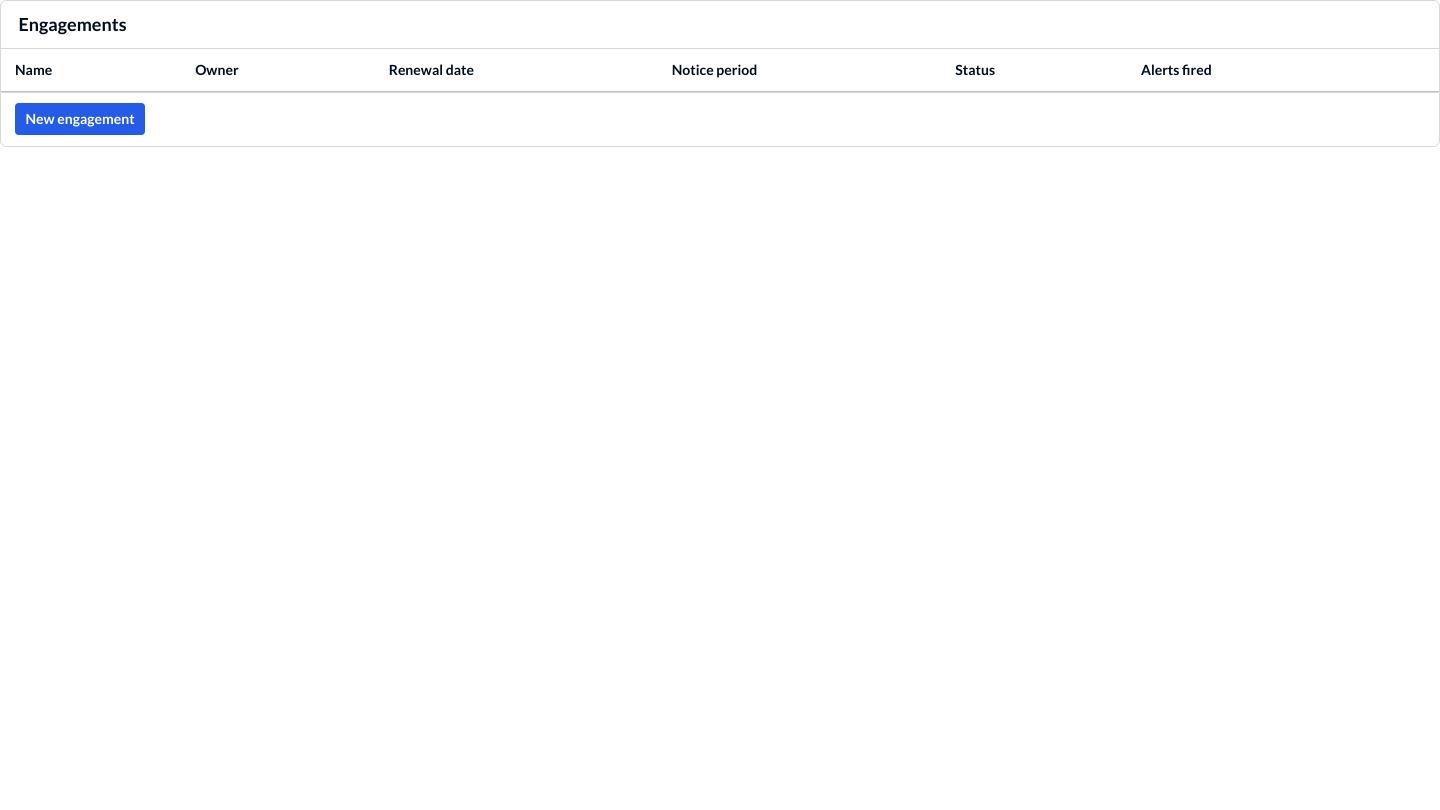
Test case: EngagementsPanel › adds an engagement, sending null for what was left empty
The width and height of the screenshot is (1440, 810).
Click the button "New engagement".
click(80, 119)  # box [15,103,145,135]
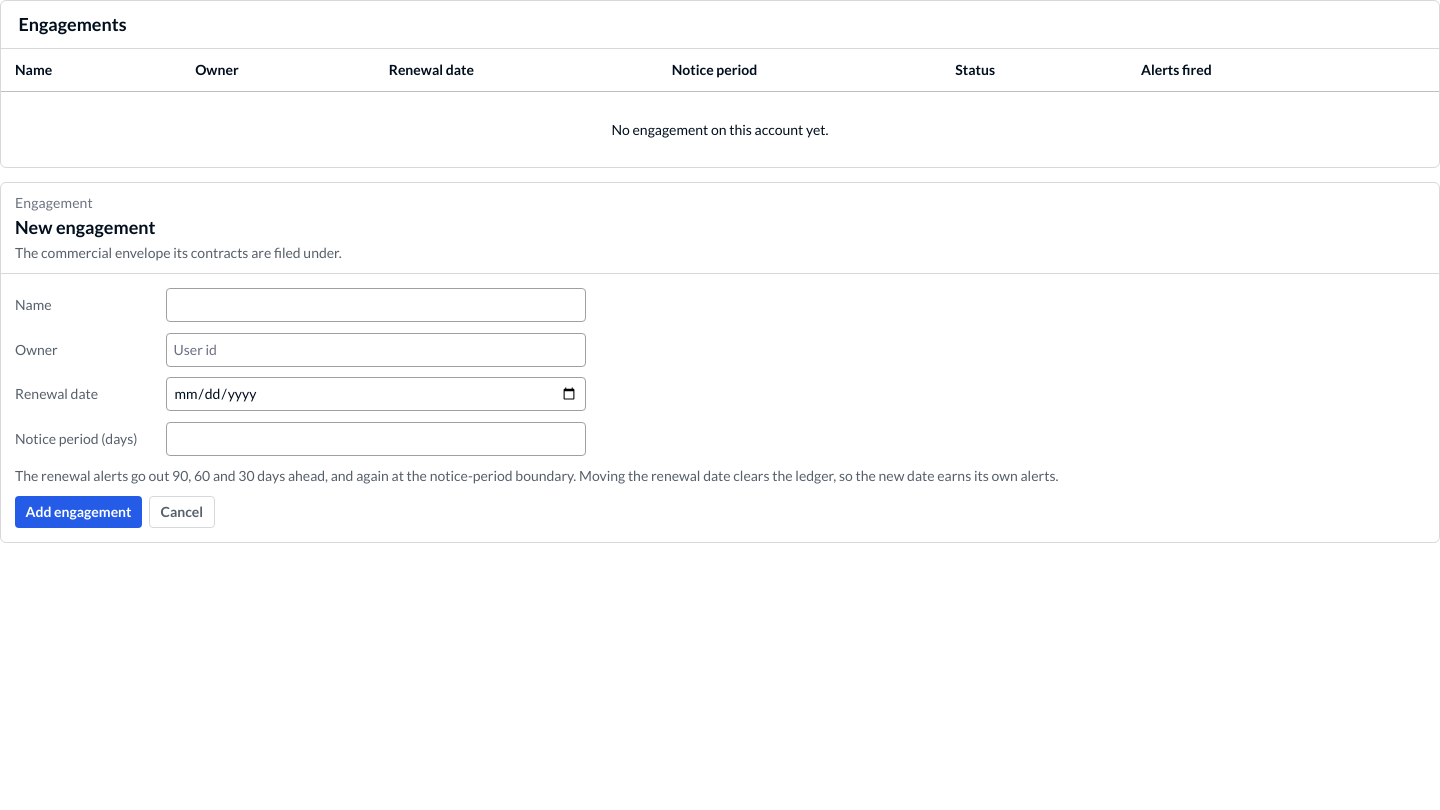
Type "Renewal 2027" into the field labelled "Name".
click(376, 305); type("Renewal 2027")  # box [166,288,586,322]
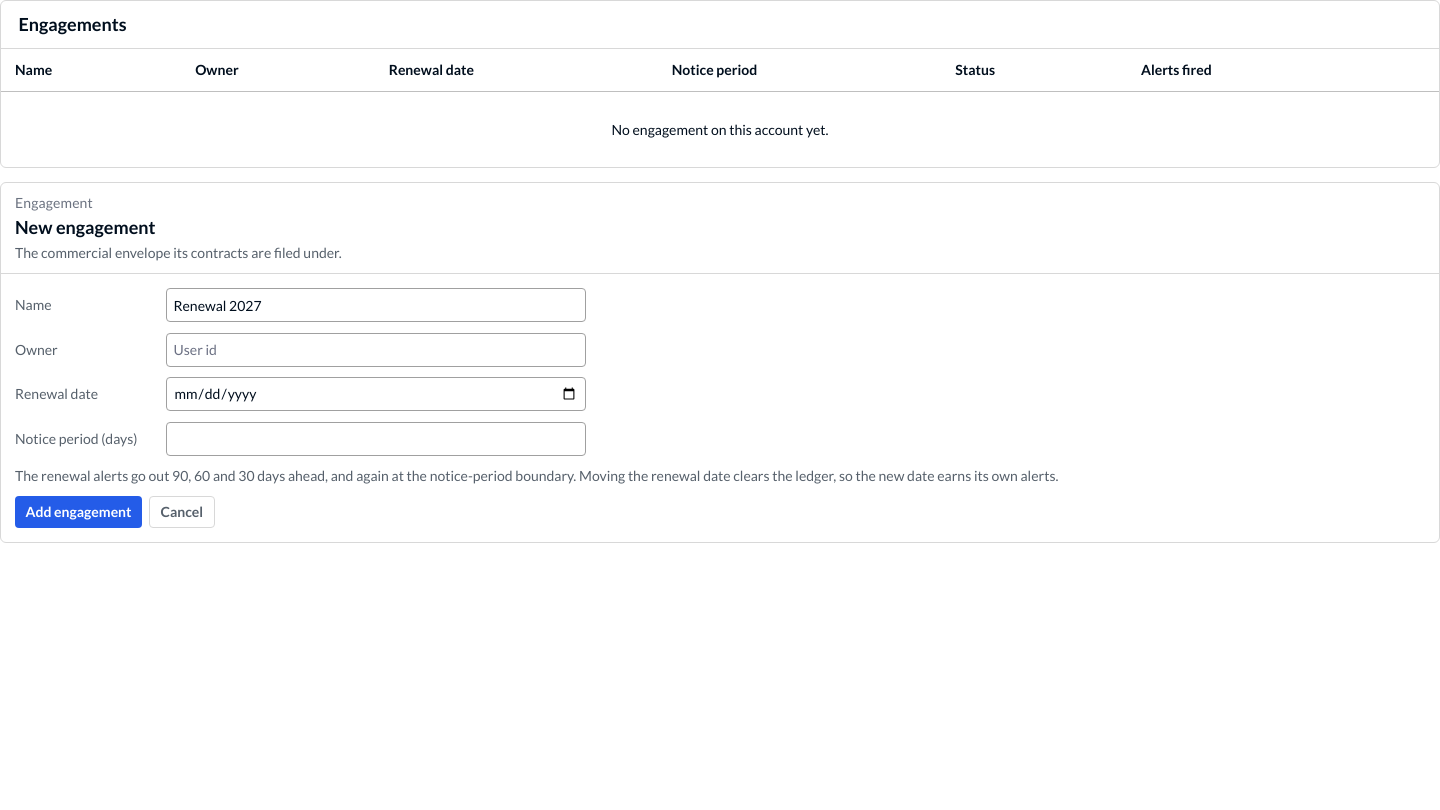
Click the button "Add engagement".
click(78, 512)  # box [15,496,142,528]
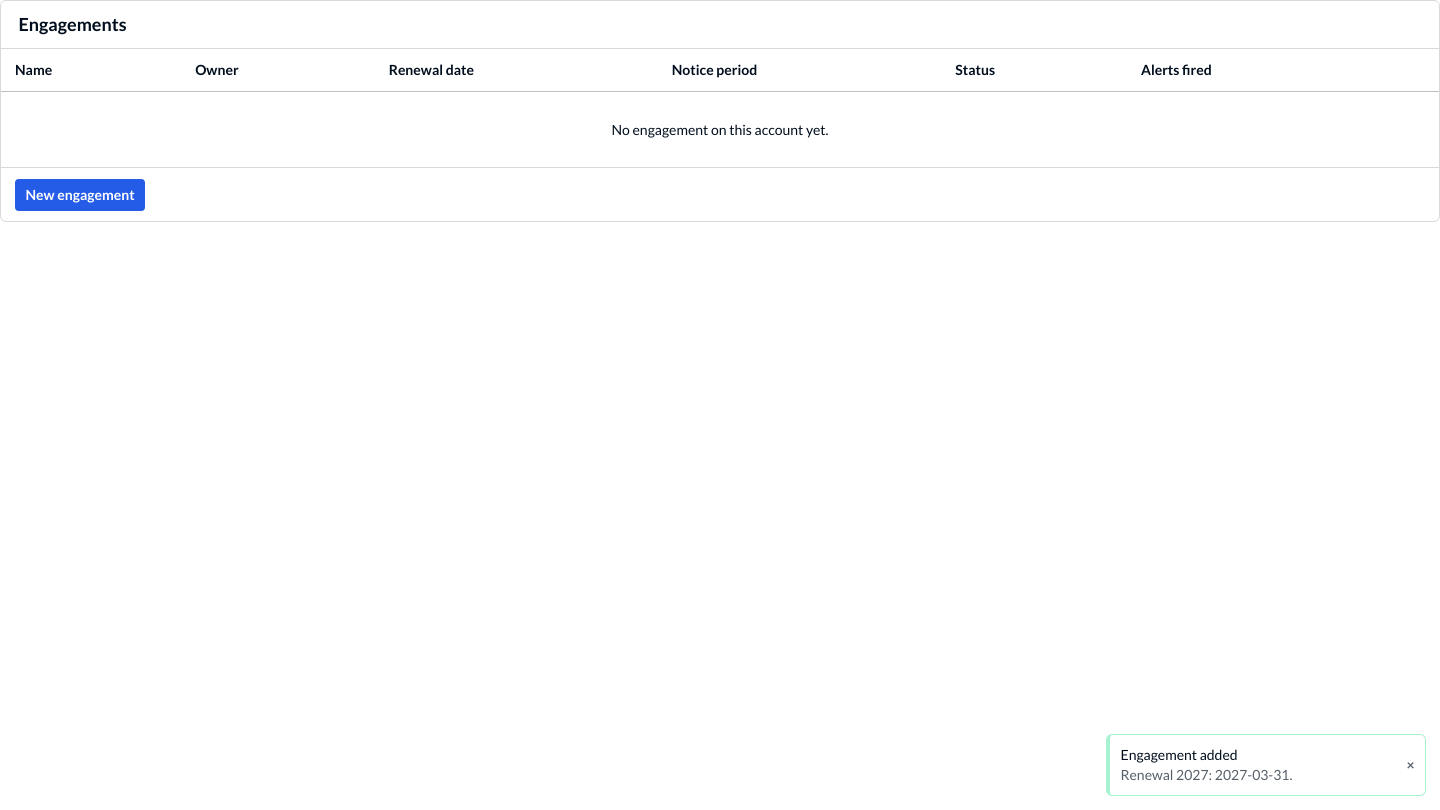
Result: the text "Engagement added" is shown at [1120,746,1238,763]
